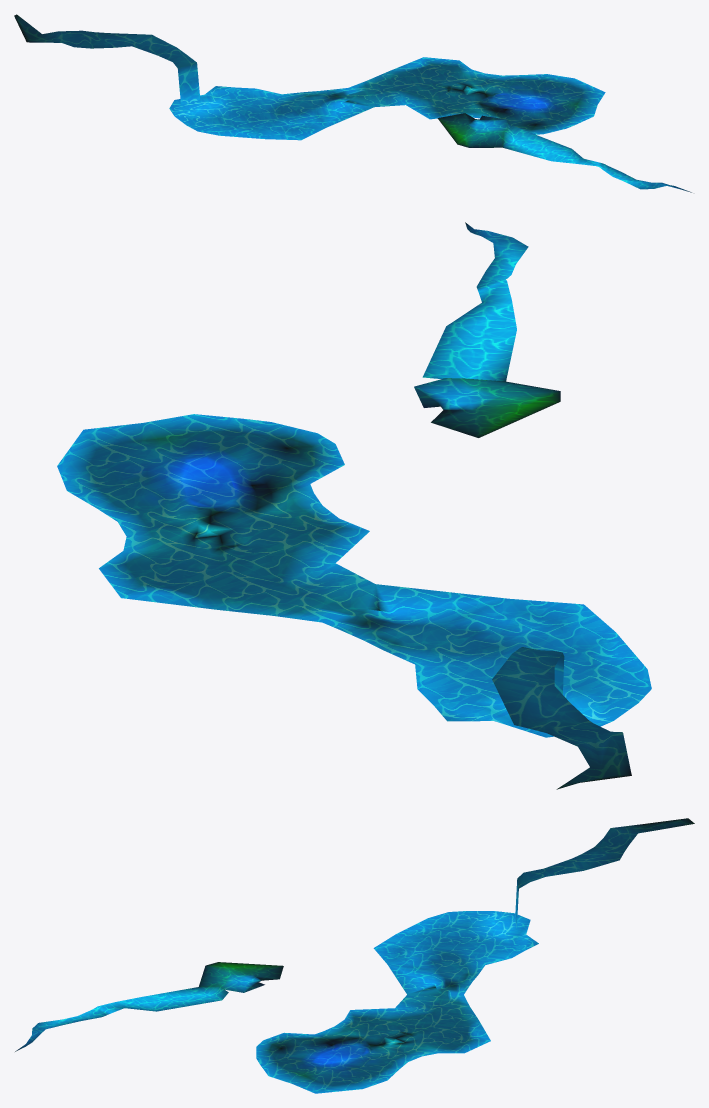
File: Course_ENV_v22_water-v005.glb
3 renders of one model, top to bottom at view 1: azimuth 30°, elevation 25°; view 2: azimuth 150°, elevation 25°; view 3: azimuth 270°, elevation 25°, orthographic. The views are drawn at different scales.
Visible parts, largest first — view 1: Water_Export; view 2: Water_Export; view 3: Water_Export.
Part boxes in pixels (x1,y1,x2,y2): Water_Export: (14,14,691,192); Water_Export: (57,222,651,789); Water_Export: (15,818,694,1093).
Bounding box in the file's own units: 162 × 19.21 × 208.
Materials: 1 (1 with a texture image).
